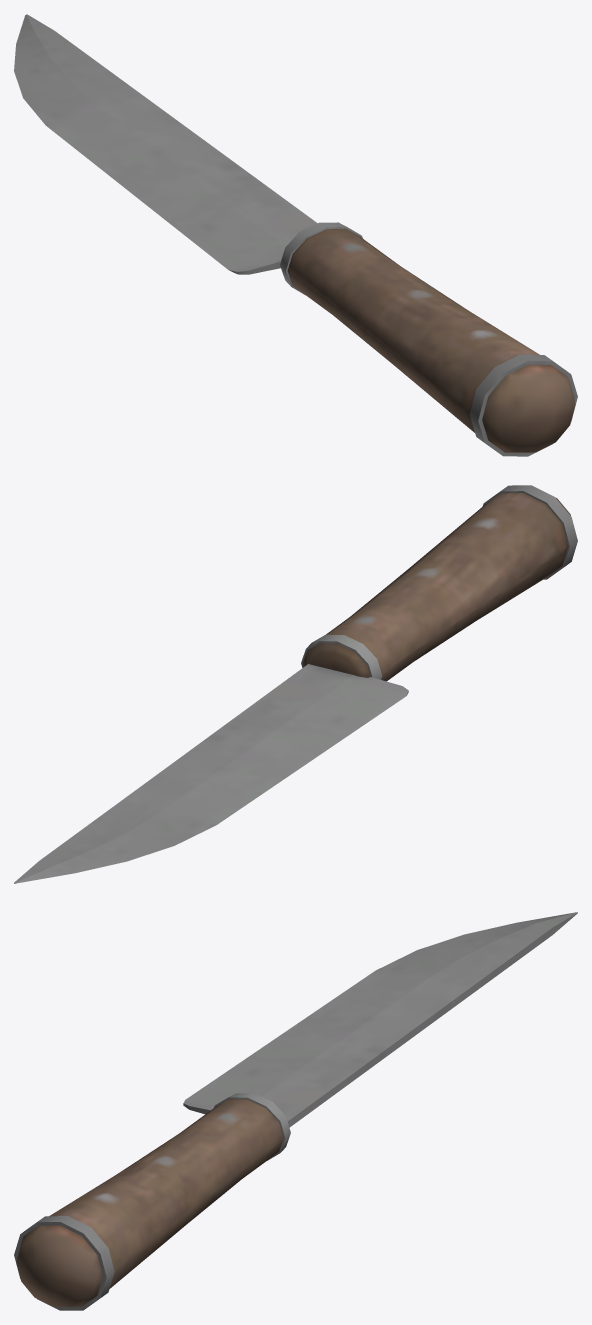
Rendered from SM_Knife.FBX.
The picture shows the model from 3 angles, top to bottom: view 1: azimuth 30°, elevation 25°; view 2: azimuth 150°, elevation 25°; view 3: azimuth 330°, elevation 25°; orthographic projection. The views are drawn at different scales.
Parts seen in each view (by area): view 1: SM_Knife; view 2: SM_Knife; view 3: SM_Knife.
Boxes of the visible parts, <box> form: SM_Knife: <box>14,14,577,456</box>; SM_Knife: <box>14,485,577,883</box>; SM_Knife: <box>14,912,577,1310</box>.
Bounding box in the file's own units: 4.79 × 3.3 × 33.97.
